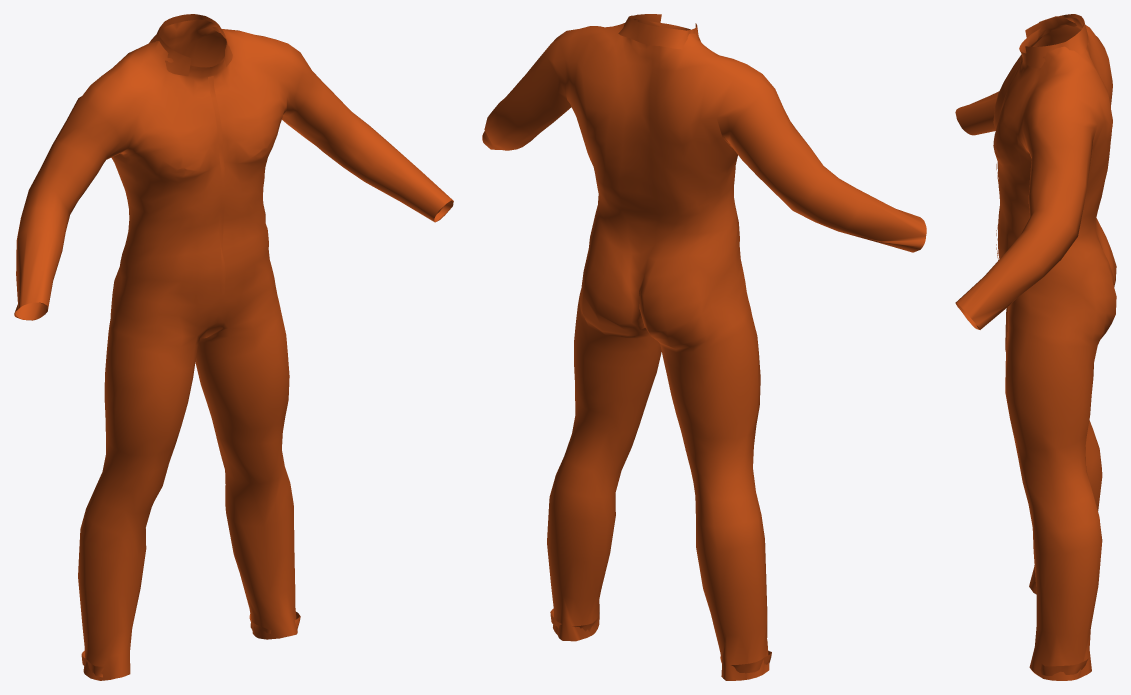
The model's file is jumpsuit.glb.
3 views of the same model, side by side, from view 1: azimuth 30°, elevation 25°; view 2: azimuth 150°, elevation 25°; view 3: azimuth 270°, elevation 25° (orthographic). The views are drawn at different scales.
Visible parts, largest first — view 1: jumpsuit; view 2: jumpsuit; view 3: jumpsuit.
Boxes of the visible parts, x1=… form: jumpsuit: x1=14, y1=14, x2=453, y2=680; jumpsuit: x1=482, y1=14, x2=926, y2=680; jumpsuit: x1=955, y1=14, x2=1116, y2=680.
Bounding box in the file's own units: 1.08 × 1.48 × 0.3525.
